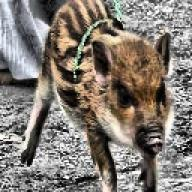boar: (18, 0, 172, 192)
